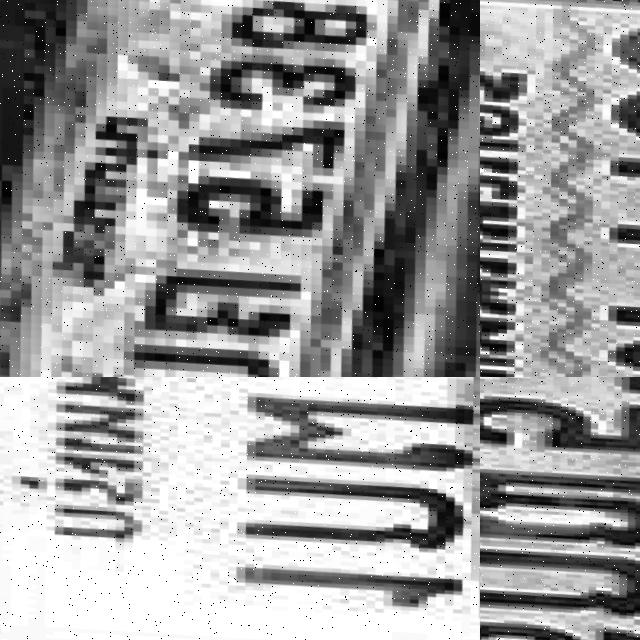license-plate: (0, 0, 480, 377), (0, 377, 480, 640), (480, 0, 640, 377), (480, 377, 640, 640)
